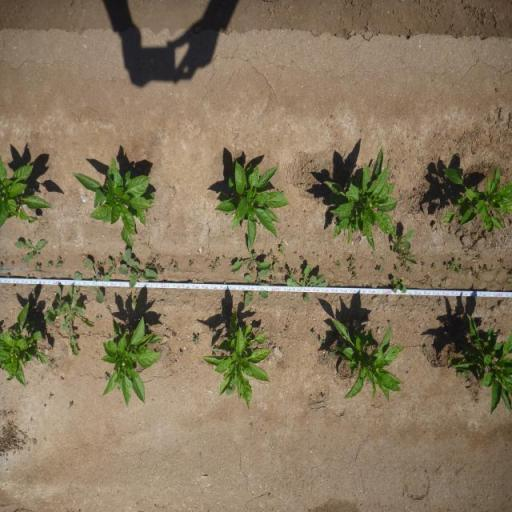plant: (70, 157, 155, 249), (321, 148, 397, 240), (212, 157, 291, 241), (334, 316, 404, 402), (453, 314, 512, 414), (439, 162, 512, 236), (105, 316, 164, 402), (217, 310, 271, 400), (0, 300, 48, 390), (0, 153, 54, 230)
weed: (44, 271, 94, 358), (286, 266, 328, 304), (121, 248, 157, 290), (229, 240, 272, 270), (242, 270, 269, 307), (392, 230, 420, 264), (12, 238, 49, 263), (86, 256, 104, 304), (446, 259, 468, 275), (103, 255, 116, 282), (144, 253, 163, 271), (267, 248, 279, 274), (347, 254, 359, 280), (392, 277, 407, 295), (208, 256, 221, 273), (54, 255, 65, 269), (396, 254, 406, 268), (326, 344, 336, 358), (170, 258, 179, 273), (471, 268, 481, 280), (268, 276, 278, 286), (226, 386, 236, 396), (208, 327, 218, 336), (279, 245, 286, 257), (96, 260, 106, 268), (480, 265, 490, 273), (192, 335, 200, 345), (318, 336, 326, 346), (291, 268, 299, 276), (376, 266, 384, 274), (406, 266, 414, 274), (505, 268, 512, 277), (132, 298, 138, 308), (278, 266, 285, 274), (334, 260, 341, 268), (48, 359, 54, 368), (505, 279, 512, 286), (34, 264, 40, 272), (394, 265, 400, 273), (106, 304, 112, 312), (436, 359, 442, 366), (172, 329, 177, 337), (168, 346, 172, 356), (213, 348, 218, 356), (188, 260, 194, 266), (420, 261, 426, 267), (104, 374, 110, 380), (321, 396, 327, 402), (423, 346, 429, 352), (500, 257, 505, 264), (312, 330, 316, 338), (48, 262, 53, 268), (425, 275, 430, 281), (166, 334, 171, 340), (471, 245, 475, 252), (5, 273, 10, 278), (222, 253, 226, 259), (300, 255, 304, 261), (432, 264, 436, 270), (153, 216, 157, 222), (10, 260, 14, 265), (120, 252, 122, 260), (294, 250, 297, 254), (313, 252, 316, 256), (316, 254, 319, 258), (99, 316, 102, 320), (96, 316, 98, 321), (330, 254, 332, 258), (180, 352, 182, 356), (326, 250, 327, 254)
